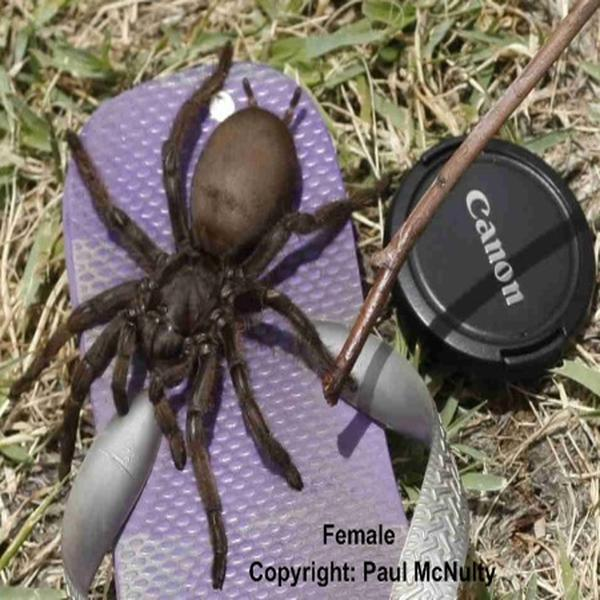Tarantula Spider: (34, 54, 376, 563)
